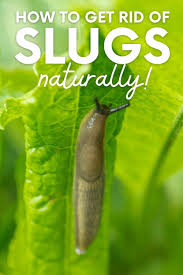slug: (74, 95, 128, 257)
